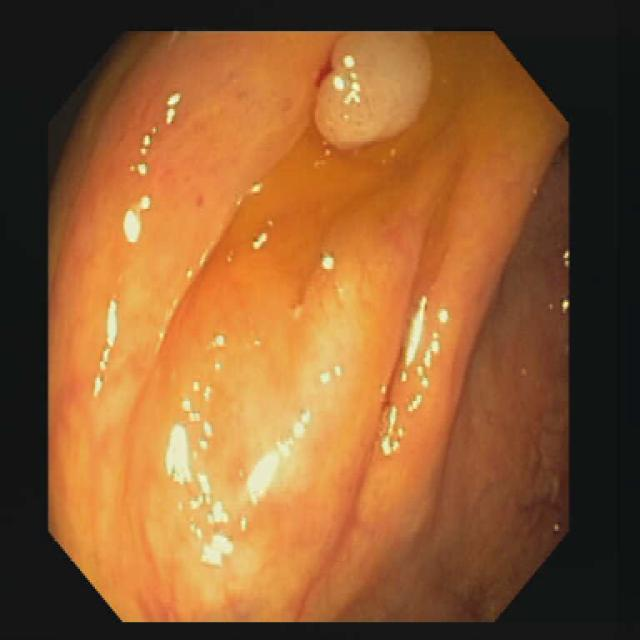tumor: (315, 33, 430, 144)
